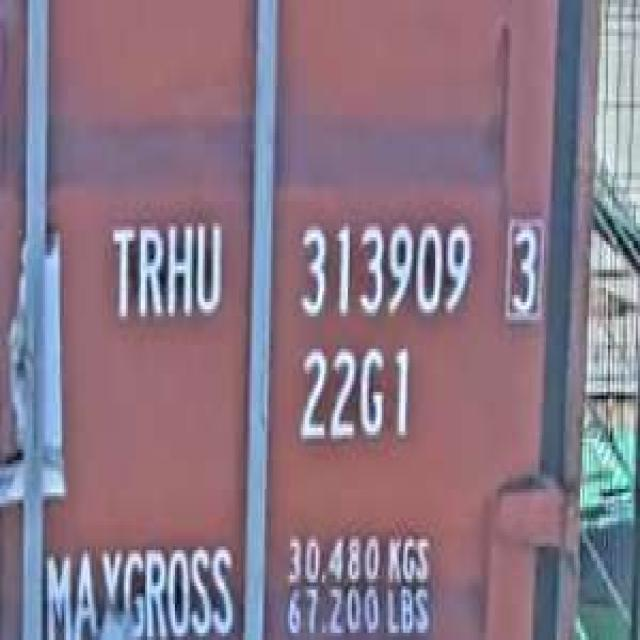dv: (497, 209, 546, 327)
owner: (102, 208, 228, 334)
serial: (292, 209, 476, 327)
size: (292, 338, 416, 453)
